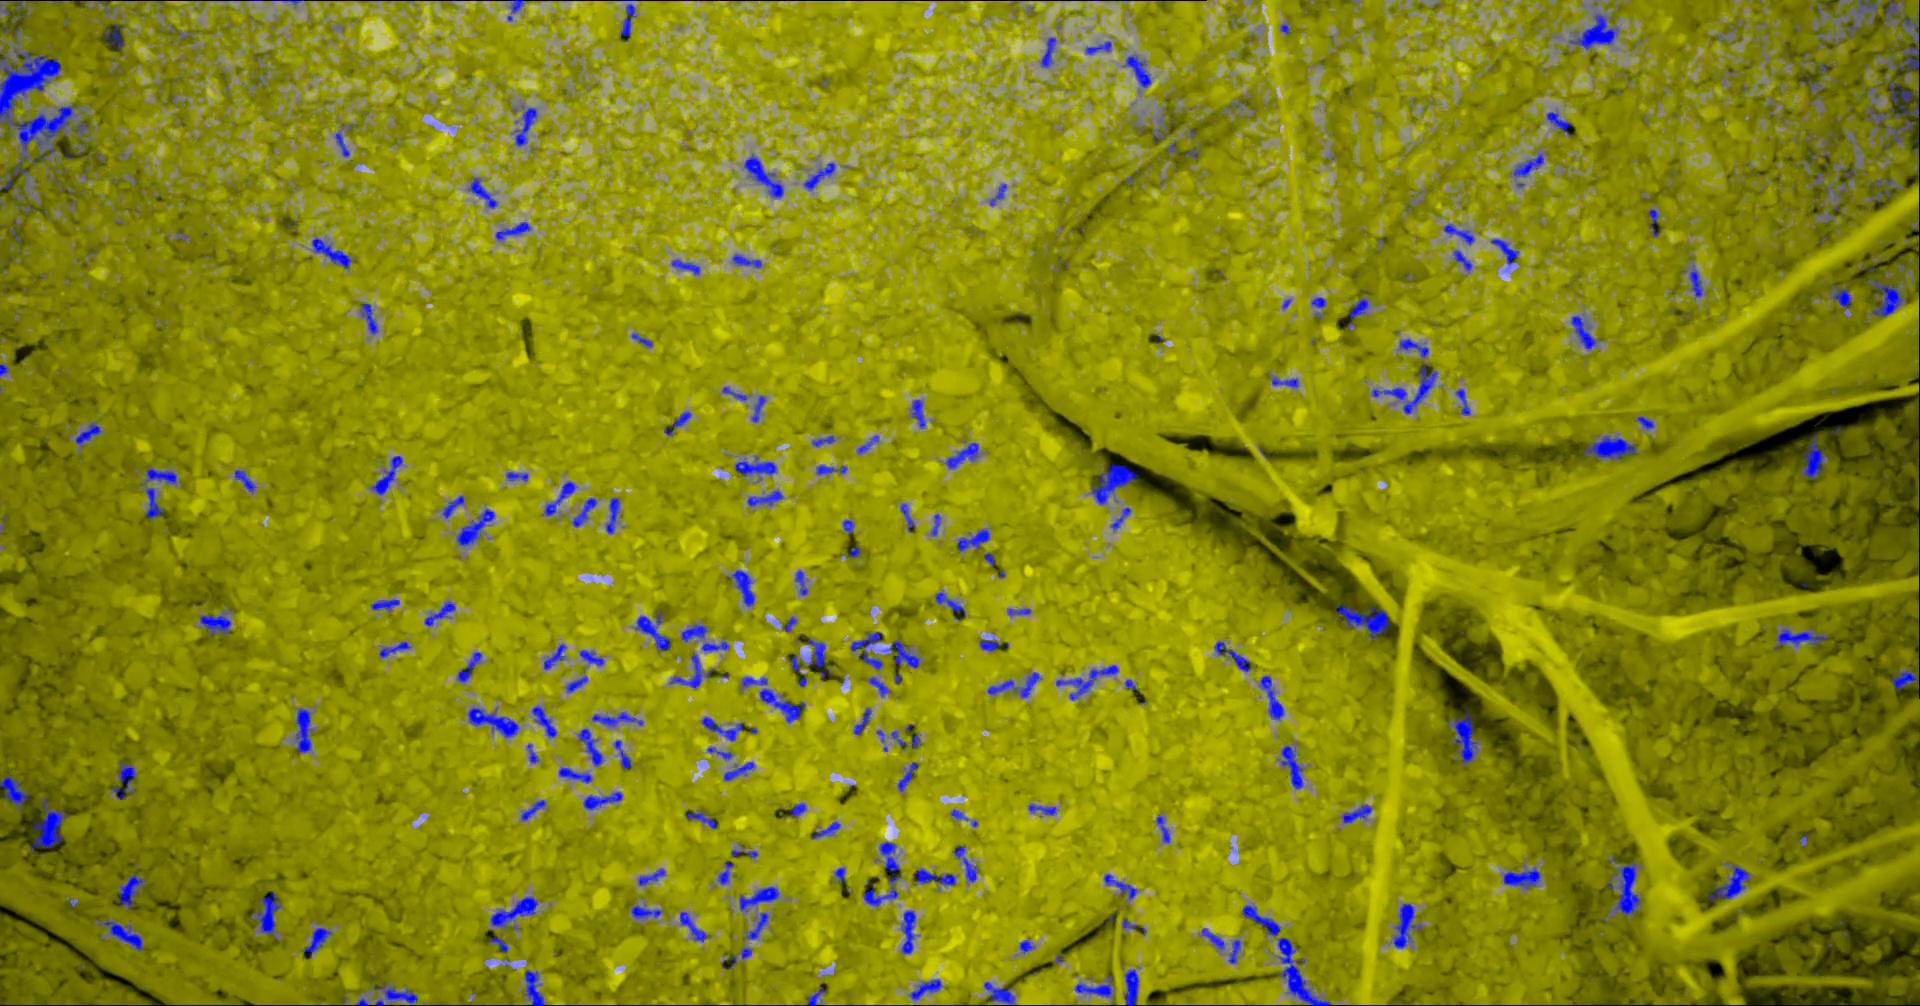ant: (1865, 74, 1919, 142), (1371, 363, 1437, 413), (742, 676, 805, 721), (862, 841, 900, 906), (1055, 664, 1117, 700), (28, 796, 66, 852), (1091, 462, 1137, 504), (1335, 605, 1389, 639), (743, 152, 783, 198), (1568, 13, 1618, 50), (488, 895, 538, 931), (1891, 17, 1919, 74), (1448, 709, 1477, 763), (668, 652, 711, 688), (1707, 864, 1750, 901), (95, 920, 143, 951), (1613, 860, 1641, 915), (1867, 279, 1906, 318), (634, 610, 670, 650), (467, 708, 518, 737), (456, 508, 494, 546), (250, 890, 279, 940), (987, 671, 1040, 697), (370, 455, 403, 494), (1392, 903, 1421, 948), (1583, 434, 1637, 459), (850, 631, 883, 669), (311, 238, 350, 268), (1241, 904, 1279, 935), (1213, 640, 1250, 671), (1888, 652, 1919, 688), (543, 481, 577, 514), (1801, 434, 1825, 479), (1258, 674, 1283, 719), (372, 981, 417, 1005), (1570, 315, 1600, 349), (1774, 627, 1829, 647), (0, 775, 28, 812), (117, 873, 145, 909), (884, 639, 919, 667), (701, 716, 742, 741), (738, 887, 778, 911), (577, 728, 602, 766), (734, 455, 776, 478), (1280, 746, 1303, 788), (806, 638, 830, 677), (110, 760, 135, 798), (935, 591, 965, 620), (952, 845, 977, 882), (1123, 55, 1150, 86), (803, 163, 834, 191), (469, 177, 497, 208), (679, 911, 707, 942), (1103, 873, 1137, 899), (943, 442, 978, 467), (514, 107, 536, 146), (731, 569, 754, 606), (1074, 976, 1112, 997), (303, 927, 331, 956), (424, 600, 455, 626), (531, 705, 556, 737), (1503, 868, 1540, 889), (590, 711, 643, 727), (295, 708, 312, 752), (1490, 238, 1517, 265), (983, 981, 1015, 1005), (956, 528, 989, 551), (1512, 152, 1543, 177), (571, 497, 596, 527), (199, 611, 230, 635), (457, 652, 481, 682), (582, 791, 622, 809), (914, 868, 955, 885), (523, 969, 543, 1005), (908, 978, 941, 1000), (1346, 296, 1368, 328), (620, 0, 636, 41), (897, 761, 918, 791), (495, 221, 530, 240), (1443, 224, 1474, 244), (143, 486, 164, 518), (74, 422, 100, 446), (745, 489, 783, 506), (663, 412, 690, 434), (543, 643, 566, 669), (745, 912, 768, 939), (723, 761, 754, 780), (902, 909, 916, 953), (1342, 803, 1371, 823), (1545, 111, 1570, 135), (684, 810, 716, 828), (1399, 338, 1429, 357), (1870, 177, 1891, 203), (359, 304, 377, 334), (1123, 969, 1138, 1005), (441, 495, 463, 518), (557, 767, 592, 782), (521, 799, 545, 821), (1200, 927, 1224, 949), (613, 739, 631, 768), (811, 821, 841, 838), (604, 497, 618, 533), (681, 622, 707, 641), (637, 868, 665, 885), (234, 469, 255, 492), (103, 24, 123, 48), (145, 467, 177, 483), (378, 641, 410, 657), (853, 708, 871, 734), (1110, 507, 1131, 528), (1040, 37, 1055, 67), (1830, 285, 1850, 307), (899, 503, 914, 532), (630, 904, 662, 918), (507, 0, 527, 22), (670, 259, 698, 274), (1455, 387, 1470, 415), (579, 649, 604, 666), (869, 676, 889, 696), (806, 983, 825, 1005), (731, 253, 761, 267), (910, 399, 924, 428), (1084, 39, 1111, 55), (1689, 265, 1702, 297), (1156, 814, 1170, 842), (334, 131, 349, 156), (1451, 250, 1470, 271), (857, 434, 877, 453), (988, 183, 1006, 205), (565, 674, 587, 692), (750, 395, 764, 422), (1027, 803, 1057, 815), (706, 746, 731, 760), (10, 0, 25, 23), (717, 861, 733, 884), (721, 386, 745, 400), (794, 570, 808, 594), (1857, 0, 1877, 17), (1883, 0, 1900, 20), (1799, 72, 1820, 89), (370, 598, 399, 610), (701, 640, 729, 652), (631, 332, 651, 347), (1227, 939, 1239, 963), (1271, 376, 1298, 387), (817, 464, 846, 474), (488, 936, 507, 951), (1648, 208, 1658, 236), (811, 434, 836, 446), (789, 801, 805, 817), (1636, 415, 1653, 429), (979, 639, 1001, 650), (526, 743, 538, 762), (730, 848, 757, 857), (781, 616, 796, 631), (950, 808, 968, 821), (505, 471, 527, 481), (930, 513, 940, 535), (1018, 939, 1034, 953), (1841, 166, 1857, 179), (842, 520, 853, 533), (834, 868, 844, 883), (848, 545, 860, 558), (1007, 608, 1030, 615), (1310, 297, 1324, 307), (740, 946, 750, 958)
